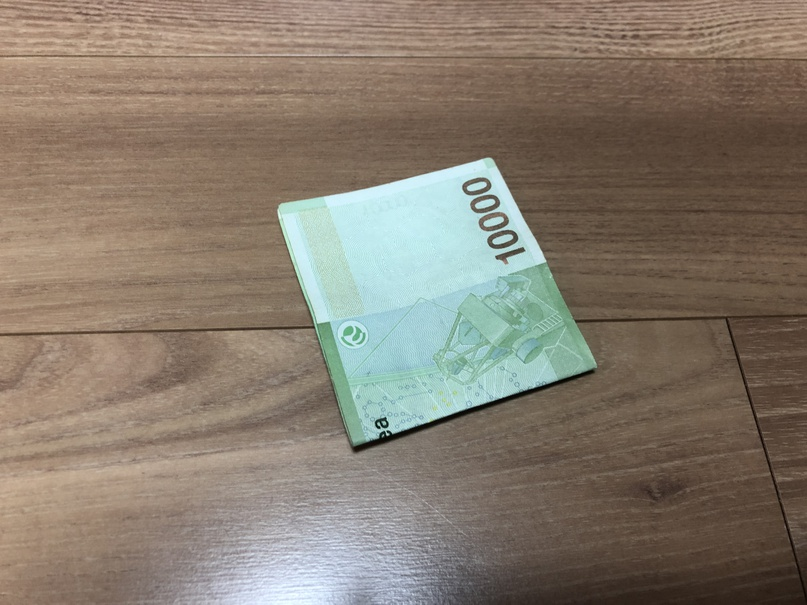10000won: (277, 158, 596, 450)
